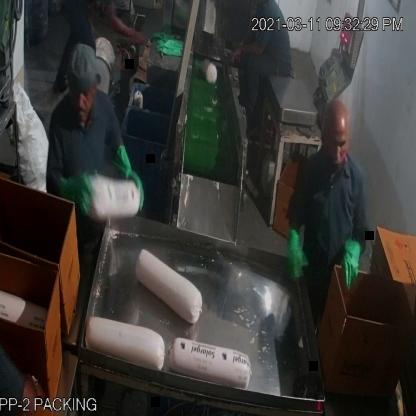glove: (280, 211, 310, 284), (334, 230, 363, 288)
no_glove: (107, 1, 150, 53), (230, 31, 262, 72)
